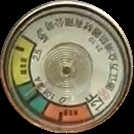green: (17, 82, 48, 117)
needle: (23, 79, 48, 97)
red: (43, 102, 92, 126)
yellow: (9, 34, 36, 86)
